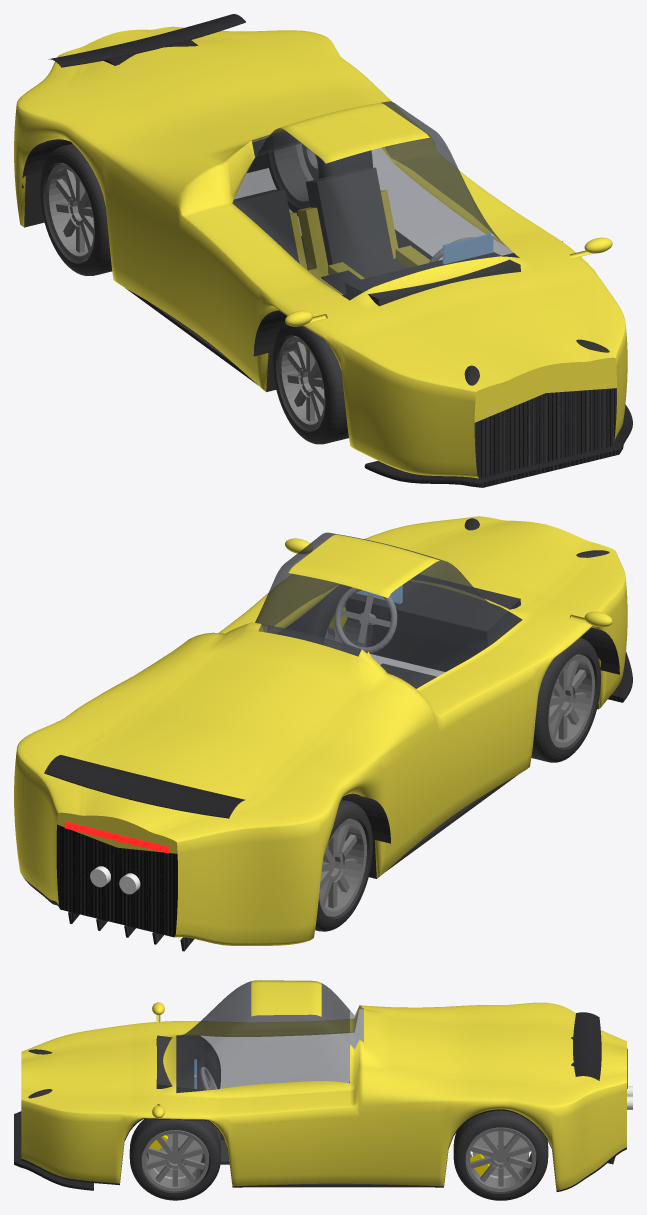
Rendered from porsche-911-gt3-rs.glb.
The picture shows the model from 3 angles, top to bottom: view 1: azimuth 30°, elevation 25°; view 2: azimuth 150°, elevation 25°; view 3: azimuth 270°, elevation 25°; orthographic projection. The views are drawn at different scales.
Parts seen in each view (by area): view 1: Body_PrimaryPaint, Glass_Windows, Carbon_Exterior, Interior_Seats, Tire_FR, Tire_RR, Rim_RR, Rim_FR, Interior_SeatBolsters, WheelWells, Interior_Dashboard, Underbody (+3 smaller); view 2: Body_PrimaryPaint, Glass_Windows, Carbon_Exterior, Interior_Dashboard, Rim_RR, Rim_FR, Tire_FR, Underbody, WheelWells, Tire_RR, Interior_SteeringWheel, Tire_FL (+2 smaller); view 3: Body_PrimaryPaint, Glass_Windows, Tire_RL, Tire_FL, Rim_RL, Carbon_Exterior, Rim_FL, Interior_Dashboard, Underbody, BrakeDisc_RL, BrakeDisc_FL, WheelWells (+1 smaller).
Part boxes in pixels (x1,y1,x2,y2): Body_PrimaryPaint: (14,26,627,478); Glass_Windows: (232,101,519,300); Carbon_Exterior: (48,14,632,487); Interior_Seats: (232,167,406,278); Tire_FR: (272,323,348,444); Tire_RR: (40,143,112,275); Rim_RR: (46,163,94,261); Rim_FR: (278,336,325,429); Interior_SeatBolsters: (290,190,429,294); WheelWells: (22,139,562,384); Interior_Dashboard: (345,252,520,306); Underbody: (24,139,617,434); Body_PrimaryPaint: (14,516,627,945); Glass_Windows: (255,532,522,688); Carbon_Exterior: (44,651,632,951); Interior_Dashboard: (345,574,521,650); Rim_RR: (319,818,366,916); Rim_FR: (548,654,594,747); Tire_FR: (531,637,600,762); Underbody: (23,620,598,939); WheelWells: (342,627,619,871); Tire_RR: (315,799,372,931); Interior_SteeringWheel: (334,587,397,653); Tire_FL: (285,584,373,647); Body_PrimaryPaint: (21,980,626,1190); Glass_Windows: (176,981,363,1092); Tire_RL: (453,1110,548,1200); Tire_FL: (129,1119,220,1200); Rim_RL: (465,1127,536,1191); Carbon_Exterior: (14,1012,615,1190); Rim_FL: (141,1130,208,1191); Interior_Dashboard: (156,1035,204,1092); Underbody: (21,1109,626,1191); BrakeDisc_RL: (472,1131,529,1178); BrakeDisc_FL: (148,1133,202,1179); WheelWells: (245,1183,431,1187).
Bounding box in the file's own units: 2.01 × 1.32 × 4.67.
16 materials, 2 textured.
